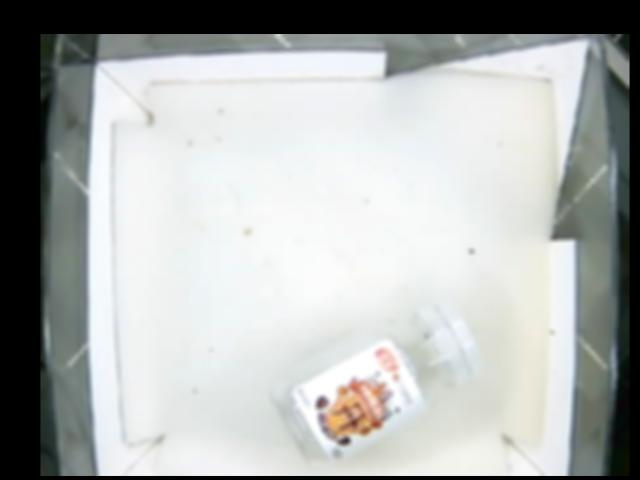Bottle: (265, 295, 484, 467)
